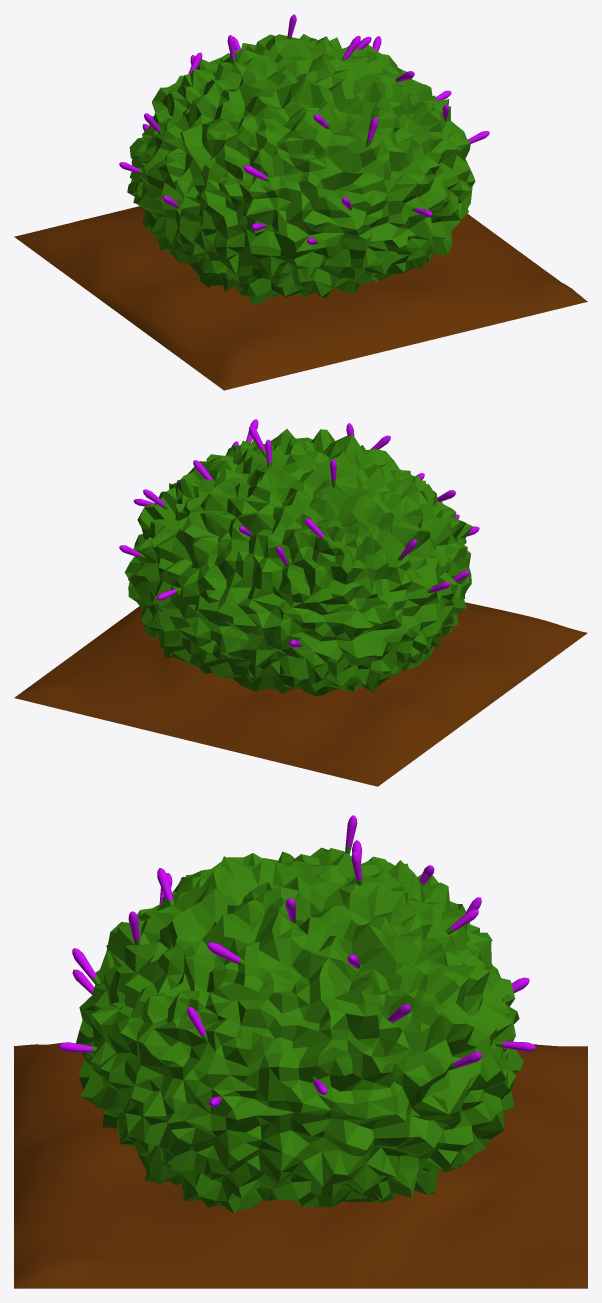
The model's file is petunia-p3-leaf.glb.
3 renders of one model, top to bottom at view 1: azimuth 30°, elevation 25°; view 2: azimuth 150°, elevation 25°; view 3: azimuth 270°, elevation 25°, orthographic. The views are drawn at different scales.
Parts seen in each view (by area): view 1: 3_nft_out_of_bloom; view 2: 3_nft_out_of_bloom; view 3: 3_nft_out_of_bloom.
Part boxes in pixels (x1,y1,x2,y2): 3_nft_out_of_bloom: (14, 14, 587, 390); 3_nft_out_of_bloom: (14, 419, 587, 786); 3_nft_out_of_bloom: (14, 815, 587, 1288).
Size of the model in its own units: 0.7 by 0.4359 by 0.7.
